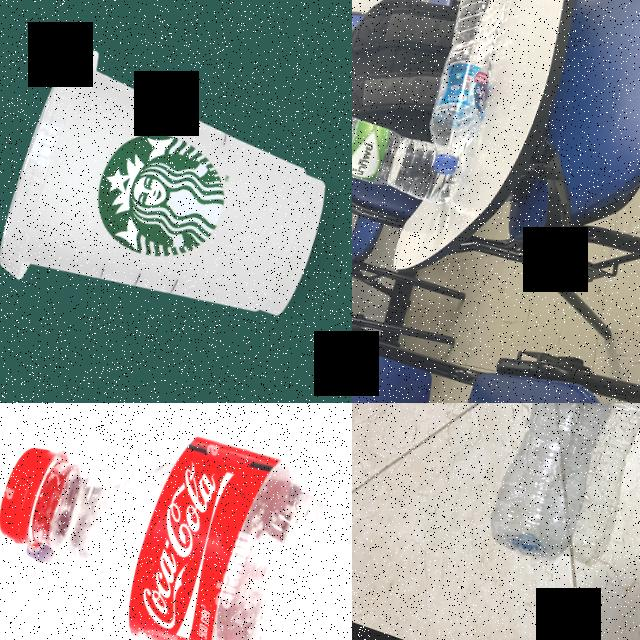bottle: (0, 403, 352, 640), (473, 403, 640, 570), (403, 0, 531, 181), (352, 100, 466, 211)
cup: (0, 37, 352, 369)
